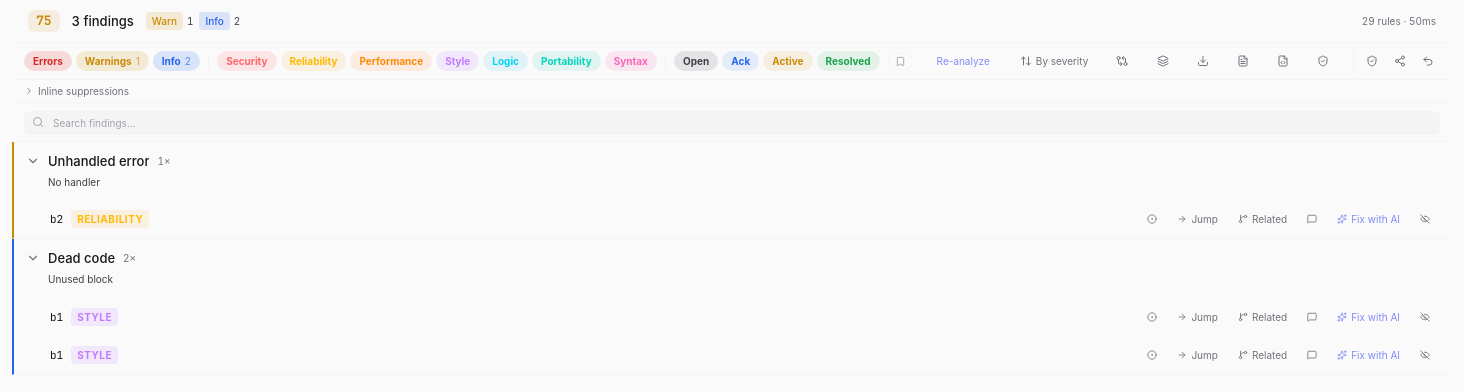
Test: FindingsTab › hides duplicate findings when Layers toggle is clicked
This screenshot has width=1464, height=392.
Expected: the text "Unhandled error" is shown, x1=48 y1=152 x2=149 y2=170
Click the button named "Toggle duplicate grouping". click: (1162, 61)
box: x1=1150 y1=51 x2=1174 y2=71
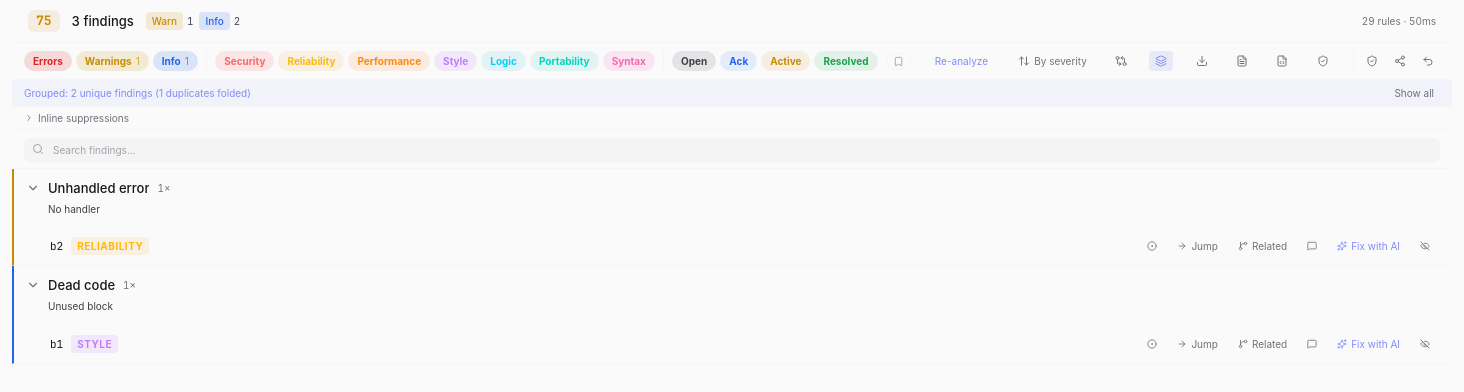
Expected: the text "Grouped: 2 unique findings (1 duplicates folded)" is shown, x1=24 y1=86 x2=251 y2=100
